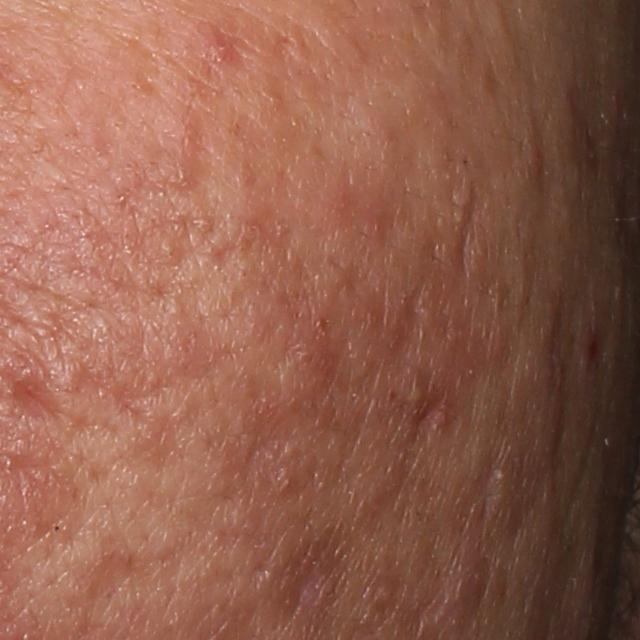atrophic_scar: (8, 366, 64, 434), (389, 280, 430, 363), (453, 181, 487, 278), (284, 559, 329, 621)
papule: (189, 15, 246, 76)
